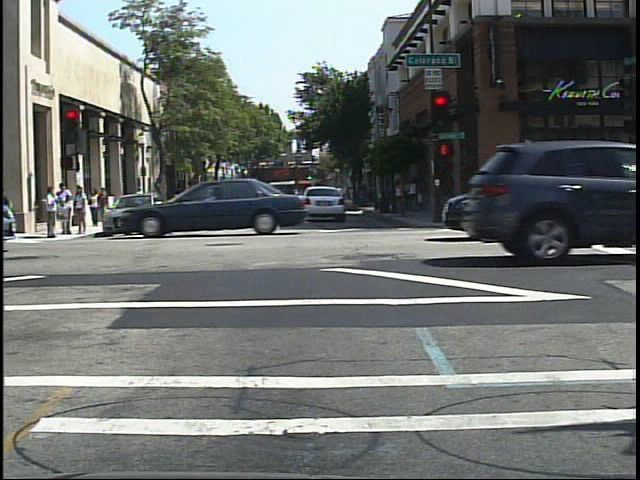person: (87, 188, 102, 229), (168, 182, 185, 216), (131, 184, 147, 216)
